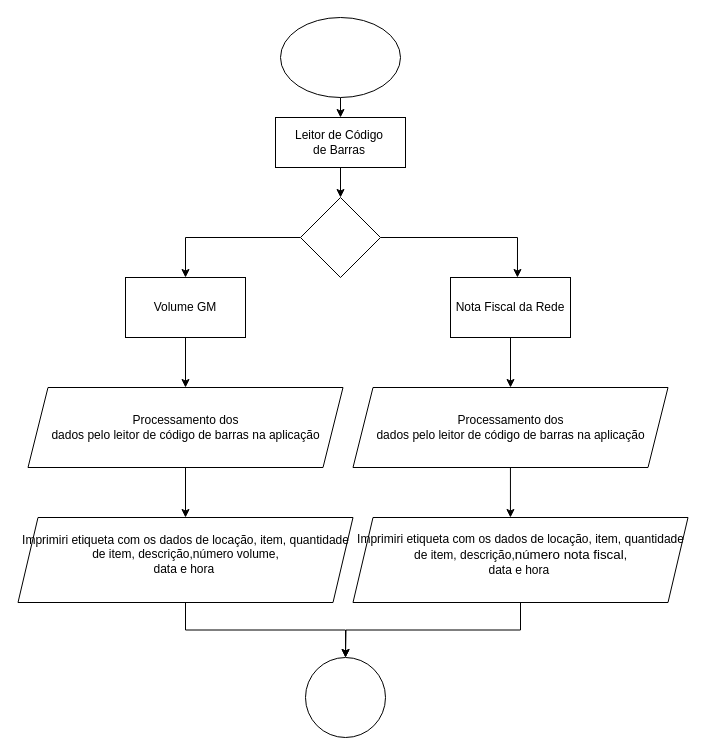
Image size: 705x755. Some labels were removed from this diagram. Each missing label, with the box of its shape:
Fim: (304, 656, 386, 738)
RECEBIMENTO: (280, 16, 400, 98)
